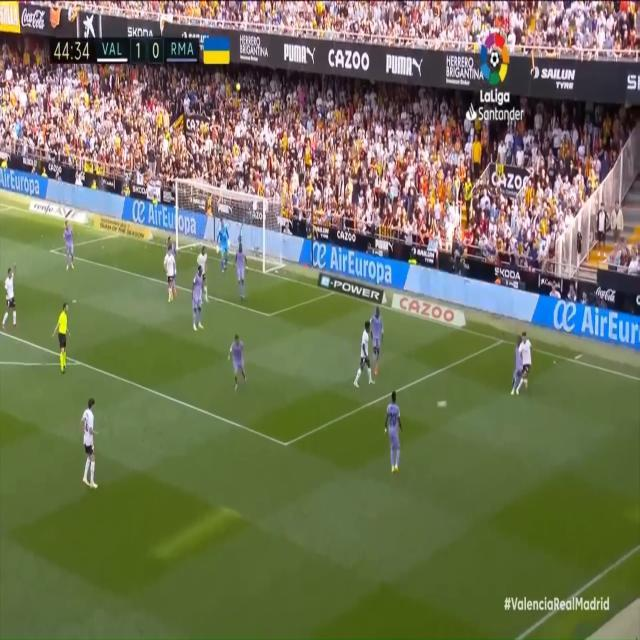ball: (437, 396, 449, 416)
goalkeeper: (213, 217, 231, 273)
player: (376, 388, 408, 491), (78, 393, 110, 492), (224, 322, 255, 403), (353, 318, 375, 395), (1, 262, 21, 338), (192, 265, 212, 338), (58, 213, 80, 275), (371, 305, 387, 388), (232, 239, 249, 310), (166, 237, 184, 297), (519, 326, 534, 397), (165, 248, 179, 309), (200, 242, 212, 305), (514, 336, 524, 399)
referee: (53, 298, 81, 387)
